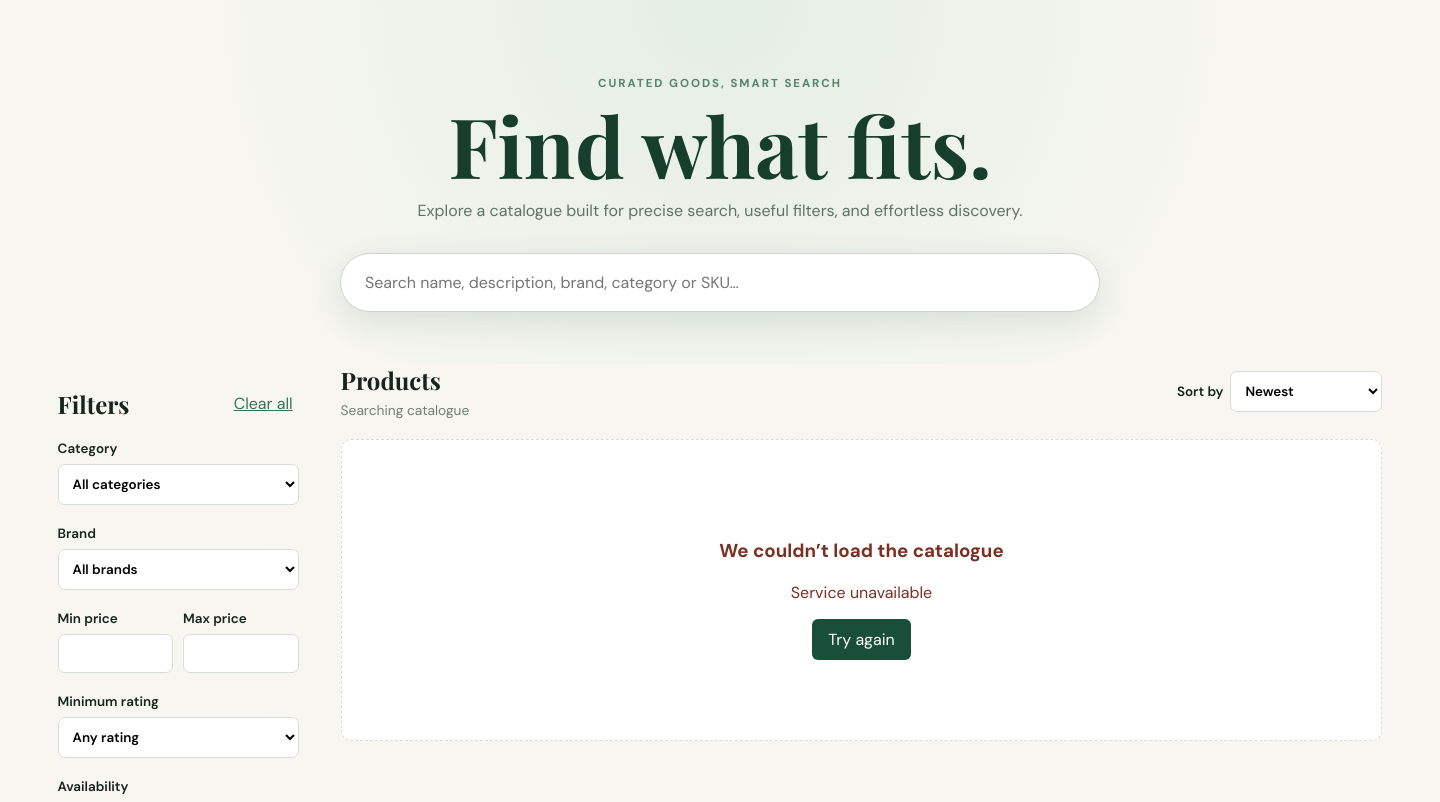
CataloguePage infinite scrolling › recovers from an initial request failure
Expected: the text "Service unavailable" is shown, [791,582,932,603]
Step 1. Click the button "Try again" → [862, 640], box [812,619,911,660]
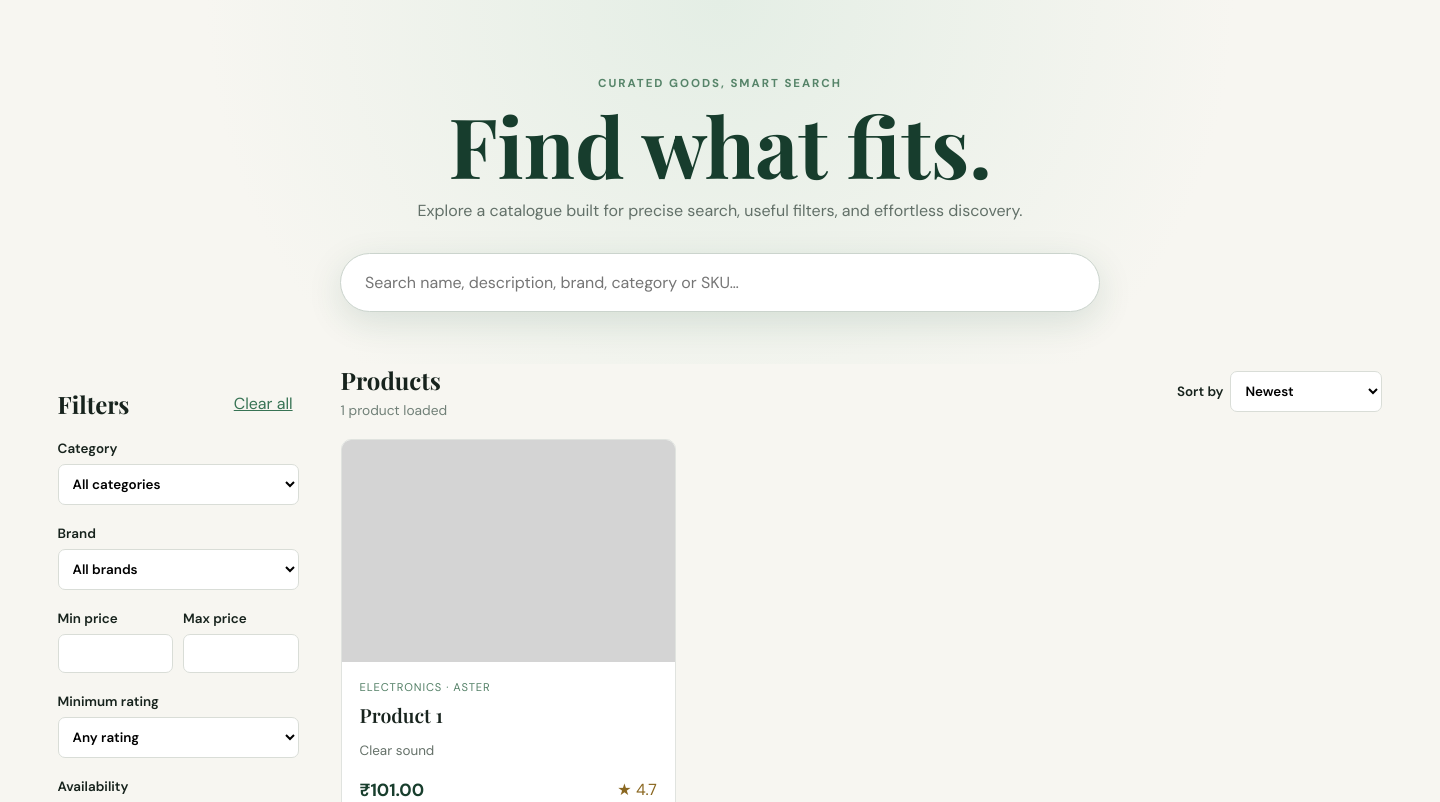
Expected: the heading "Product 1" is shown, [360,702,443,728]
